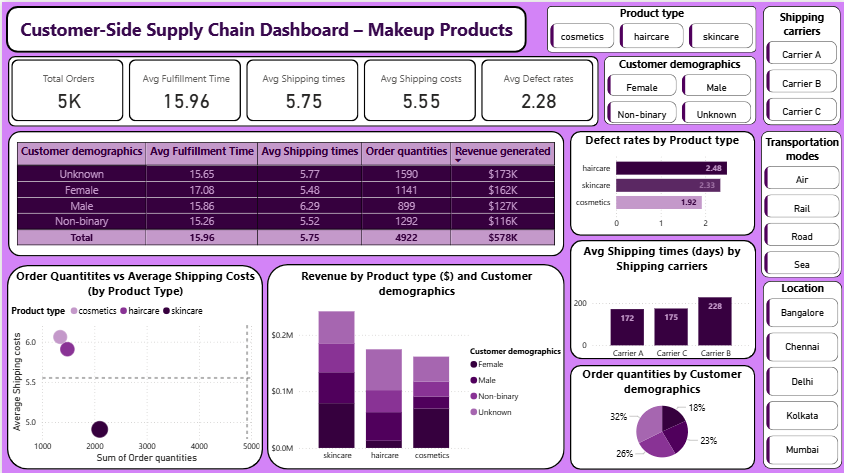

This screenshot's page, from the dashboard's own definition file:
{"tool":"powerbi","page":{"name":"Page 2","canvas":[1280,720],"ordinal":1},"visuals":[{"type":"shape","box":[861.1,360,282.1,180.7],"z":0},{"type":"shape","box":[861.1,549.6,280.7,158.7],"z":1000},{"type":"shape","box":[861.1,195.4,280.7,158.7],"z":3000},{"type":"shape","box":[401.1,396.7,451.1,311.5],"z":4000},{"type":"shape","box":[1150.7,195.5,122.4,222.4],"z":5000},{"type":"shape","box":[1153.5,5.9,117.6,180.7],"z":6000},{"type":"shape","box":[7.3,398.2,387.9,310],"z":7000},{"type":"shape","box":[825.8,5.9,317.4,70.5],"z":8000},{"type":"shape","box":[1153.6,422.7,120,284.5],"z":9000},{"type":"shape","box":[8.8,82.3,895,107.3],"z":10000},{"type":"shape","box":[6.7,5.8,789.2,70.8],"z":11000},{"type":"textbox","box":[22,17.6,765.6,47],"z":12000},{"type":"cardVisual","fields":{"Data":["Sum(supply_chain_data.Order quantities)","Avg(supply_chain_data.Fulfillment Time)","Avg(supply_chain_data.Shipping times)","Avg(supply_chain_data.Shipping costs)","Avg(supply_chain_data.Defect rates)"]},"box":[8.8,82.3,894.9,104.3],"z":13000},{"type":"advancedSlicerVisual","fields":{"Values":["supply_chain_data.Product type"]},"box":[825.8,5.9,317.4,69.1],"z":14000},{"type":"shape","box":[912.5,82.3,230.7,104.3],"z":15000},{"type":"advancedSlicerVisual","fields":{"Values":["supply_chain_data.Customer demographics"]},"box":[912.5,83.8,229.2,105.8],"z":16000},{"type":"advancedSlicerVisual","fields":{"Values":["supply_chain_data.Shipping carriers"]},"box":[1153.5,11.8,117.6,174.9],"z":17000},{"type":"shape","box":[8.8,195.4,843,190],"z":18000},{"type":"advancedSlicerVisual","fields":{"Values":["supply_chain_data.Transportation modes"]},"box":[1150.5,201.3,124.9,216],"z":19000},{"type":"advancedSlicerVisual","fields":{"Values":["supply_chain_data.Location"]},"box":[1153.6,422.7,120,284.5],"z":20000},{"type":"clusteredColumnChart","title":"Avg Shipping times (days) by Shipping carriers","fields":{"Category":["supply_chain_data.Shipping carriers"],"Y":["Sum(supply_chain_data.Shipping times)"]},"box":[861.1,362.9,279.2,186.6],"z":21000},{"type":"pieChart","fields":{"Category":["supply_chain_data.Customer demographics"],"Y":["Sum(supply_chain_data.Order quantities)"]},"box":[861.1,549.6,279.2,155.8],"z":22000},{"type":"barChart","fields":{"Category":["supply_chain_data.Product type"],"Y":["Avg(supply_chain_data.Defect rates)"]},"box":[861.1,195.4,279.2,158.7],"z":23000},{"type":"tableEx","fields":{"Values":["supply_chain_data.Customer demographics","Avg(supply_chain_data.Fulfillment Time)","Avg(supply_chain_data.Shipping times)","Sum(supply_chain_data.Order quantities)","Sum(supply_chain_data.Revenue generated)"]},"box":[16.2,207.2,837.6,183.7],"z":24000},{"type":"columnChart","title":"Revenue by Product type ($) and Customer demographics","fields":{"Category":["supply_chain_data.Product type"],"Series":["supply_chain_data.Customer demographics"],"Y":["Sum(supply_chain_data.Revenue generated)"]},"box":[402.6,401.1,451.1,304.2],"z":26000},{"type":"scatterChart","title":"Order Quantitites vs Average Shipping Costs (by Product Type)","fields":{"Series":["supply_chain_data.Product type"],"Size":["Sum(supply_chain_data.Revenue generated)"],"X":["Sum(supply_chain_data.Order quantities)"],"Y":["Avg(supply_chain_data.Shipping costs)"]},"box":[8.8,401.1,386.4,302.7],"z":27000}]}

Visuals, with their boxes in screenshot pixels (x1, y1, x2, y2), scaled from the page's 1280x720 canvas onto the 844x473 screenshot:
shape: BBox(568, 236, 754, 355)
shape: BBox(568, 361, 753, 465)
shape: BBox(568, 128, 753, 233)
shape: BBox(264, 261, 562, 465)
shape: BBox(759, 128, 839, 275)
shape: BBox(761, 4, 838, 123)
shape: BBox(5, 262, 261, 465)
shape: BBox(545, 4, 754, 50)
shape: BBox(761, 278, 840, 465)
shape: BBox(6, 54, 596, 125)
shape: BBox(4, 4, 525, 50)
textbox: BBox(15, 12, 519, 42)
cardVisual - Sum(supply_chain_data.Order quantities) x Avg(supply_chain_data.Fulfillment Time): BBox(6, 54, 596, 123)
advancedSlicerVisual - supply_chain_data.Product type: BBox(545, 4, 754, 49)
shape: BBox(602, 54, 754, 123)
advancedSlicerVisual - supply_chain_data.Customer demographics: BBox(602, 55, 753, 125)
advancedSlicerVisual - supply_chain_data.Shipping carriers: BBox(761, 8, 838, 123)
shape: BBox(6, 128, 562, 253)
advancedSlicerVisual - supply_chain_data.Transportation modes: BBox(759, 132, 841, 274)
advancedSlicerVisual - supply_chain_data.Location: BBox(761, 278, 840, 465)
"Avg Shipping times (days) by Shipping carriers" clusteredColumnChart: BBox(568, 238, 752, 361)
pieChart - supply_chain_data.Customer demographics x Sum(supply_chain_data.Order quantities): BBox(568, 361, 752, 463)
barChart - supply_chain_data.Product type x Avg(supply_chain_data.Defect rates): BBox(568, 128, 752, 233)
tableEx - supply_chain_data.Customer demographics x Avg(supply_chain_data.Fulfillment Time): BBox(11, 136, 563, 257)
"Revenue by Product type ($) and Customer demographics" columnChart: BBox(265, 264, 563, 463)
"Order Quantitites vs Average Shipping Costs (by Product Type)" scatterChart: BBox(6, 264, 261, 462)
